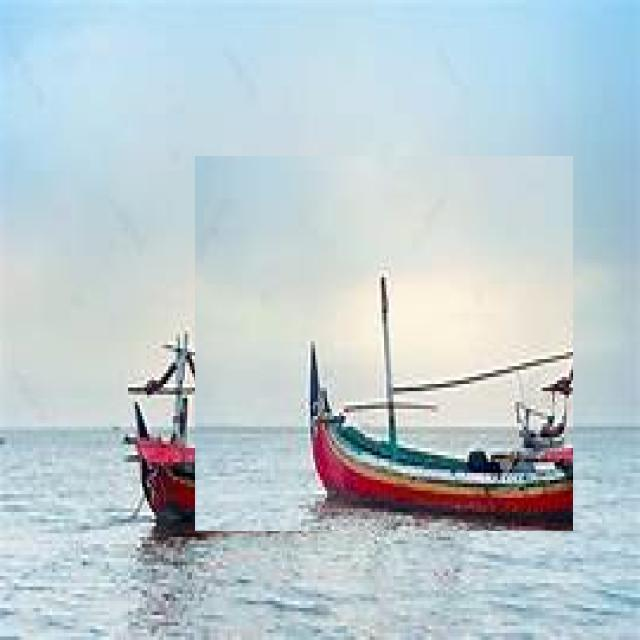Fishing Boat: (195, 156, 573, 531)
